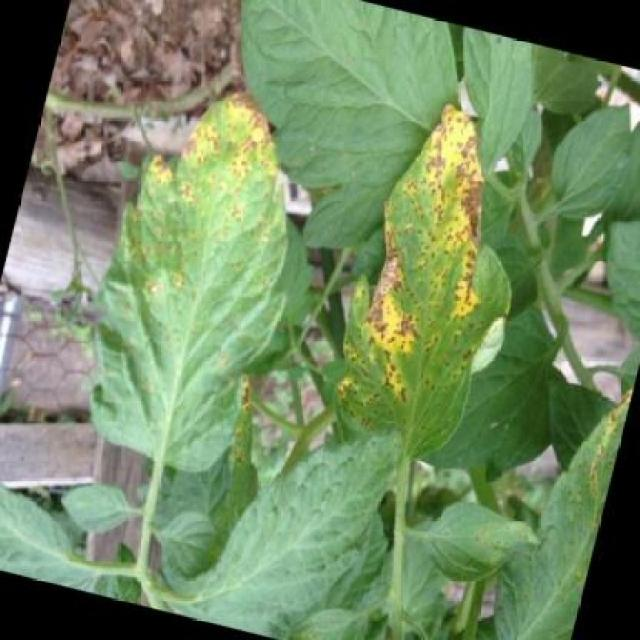Septoria leaf spot: (59, 56, 343, 487), (314, 84, 558, 484)
